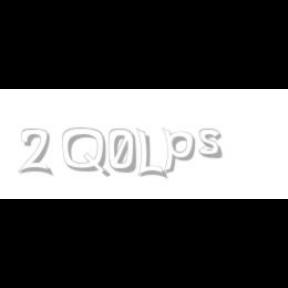0: (109, 128, 140, 174)
2: (17, 128, 51, 176)
L: (137, 128, 165, 180)
Q: (62, 128, 108, 178)
p: (162, 128, 199, 174)
s: (199, 128, 227, 160)
